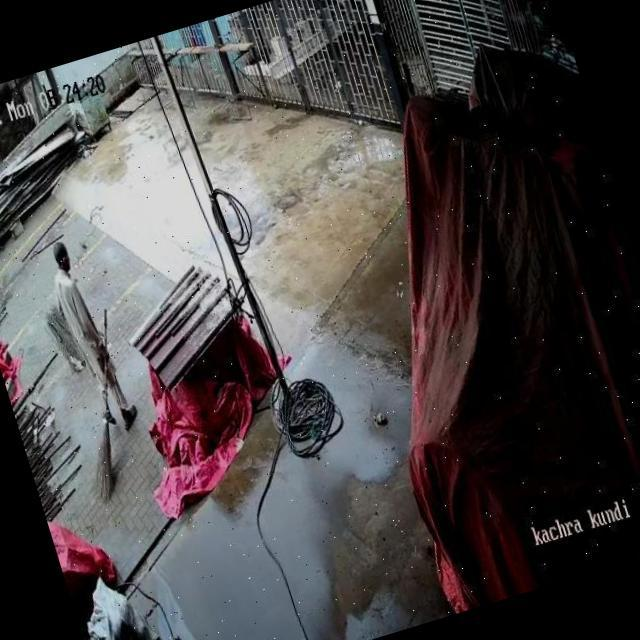person: (48, 240, 138, 422)
